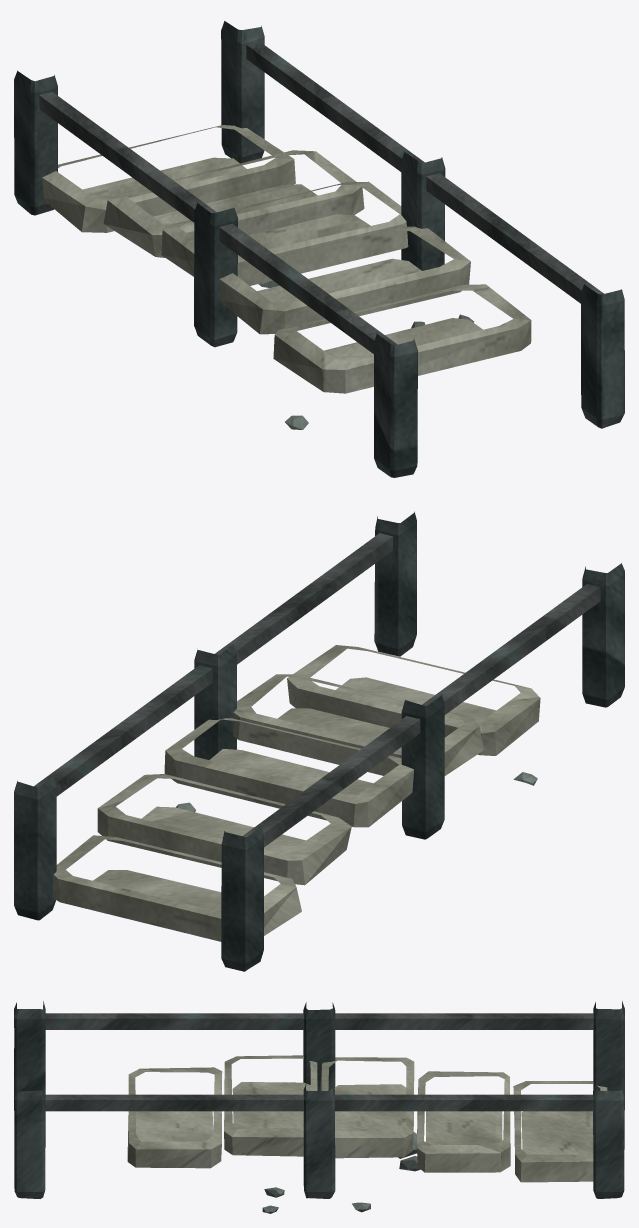
The model's file is 0378_ruined_bridge_03.glb.
3 views of the same model, one above another, from view 1: azimuth 30°, elevation 25°; view 2: azimuth 150°, elevation 25°; view 3: azimuth 270°, elevation 25° (orthographic). The views are drawn at different scales.
Visible parts, largest first — view 1: stone_light, stone_dark, iron; view 2: stone_light, stone_dark, iron; view 3: stone_light, iron, stone_dark, stone.
Boxes of the visible parts, box(x1,y1,x2,y2) form: stone_light: box(42, 125, 531, 393); stone_dark: box(14, 21, 624, 477); iron: box(39, 41, 603, 353); stone_light: box(53, 645, 540, 941); stone_dark: box(14, 511, 624, 971); iron: box(34, 533, 600, 847); stone_light: box(127, 1055, 607, 1182); iron: box(45, 1013, 593, 1111); stone_dark: box(14, 1001, 624, 1198); stone: box(262, 1132, 420, 1213).
Size of the model in its own units: 1.83 by 1.1 by 4.89.
4 materials, 4 textured.
